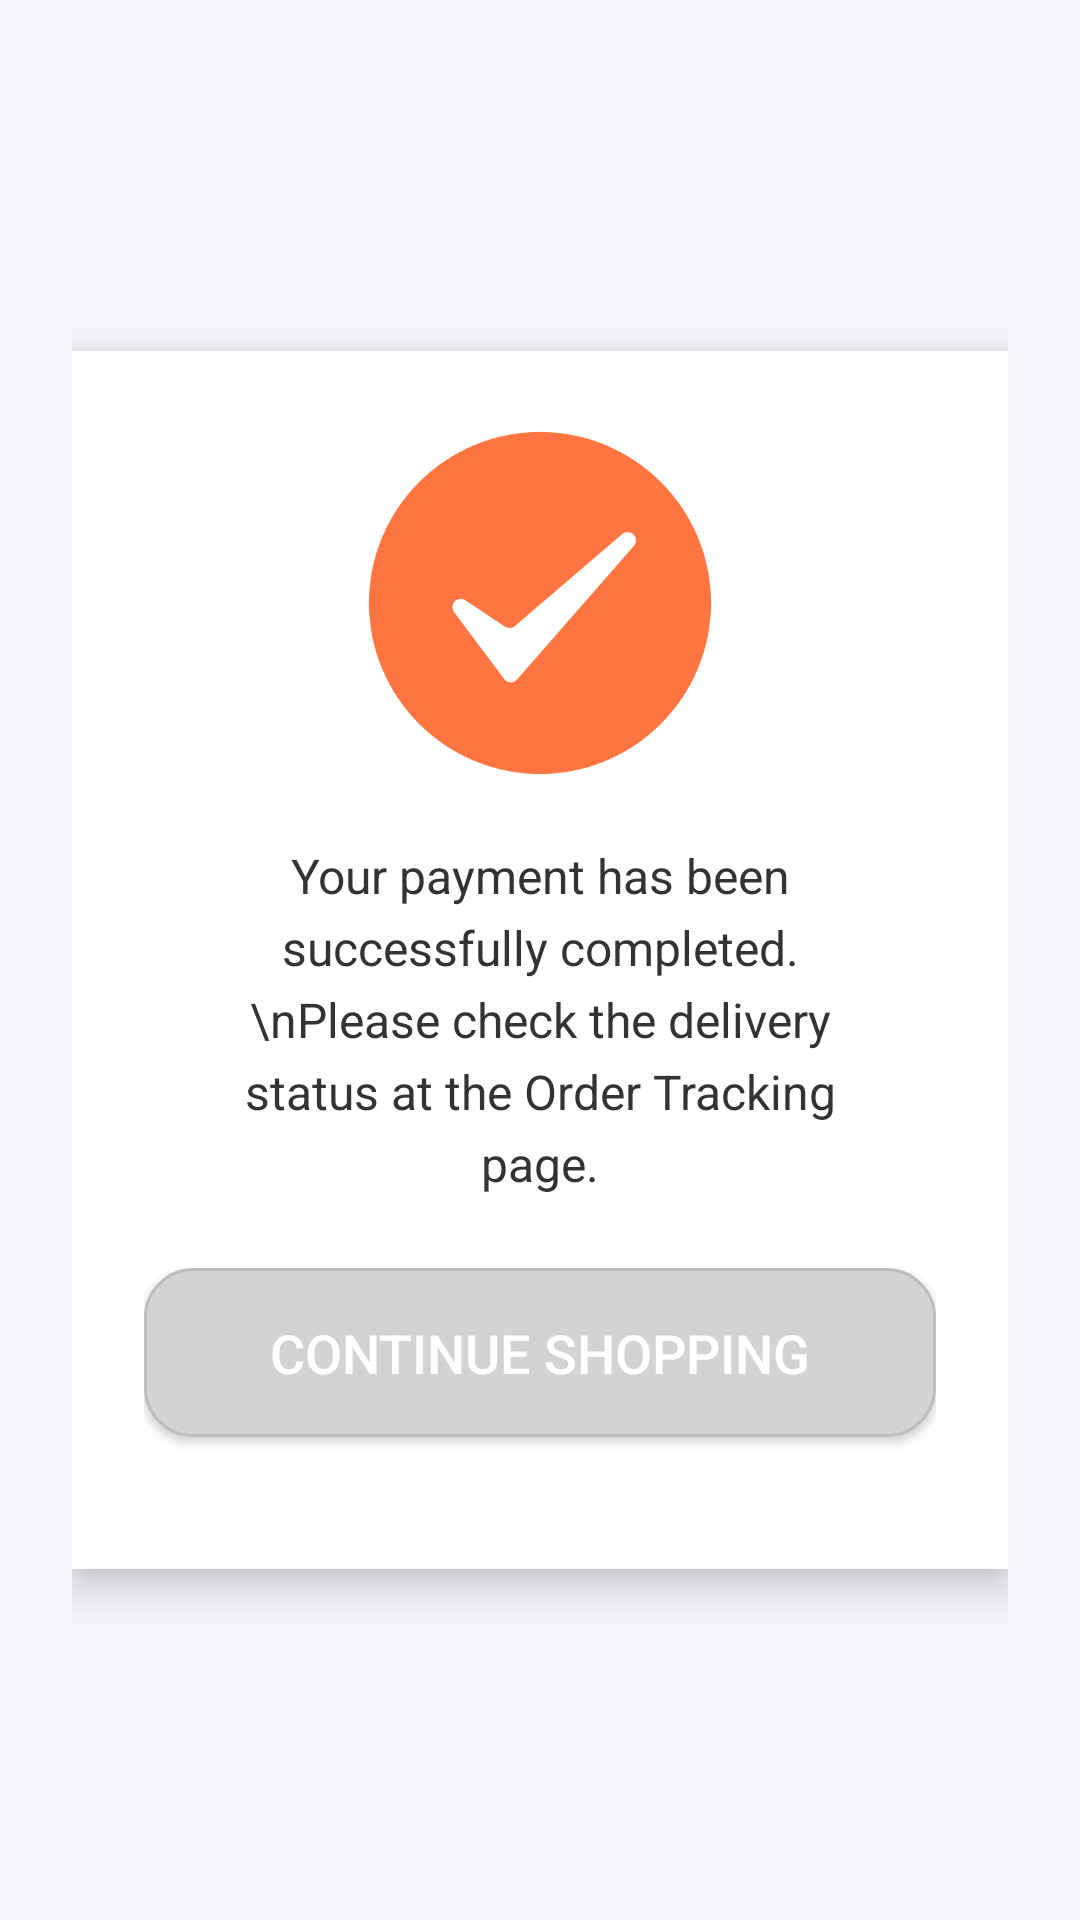

Icon bounding boxes for this 1080x1920 phone screenshot, format (x1, y1, x2, y2):
order confirmation gif: (369, 432, 711, 774)
